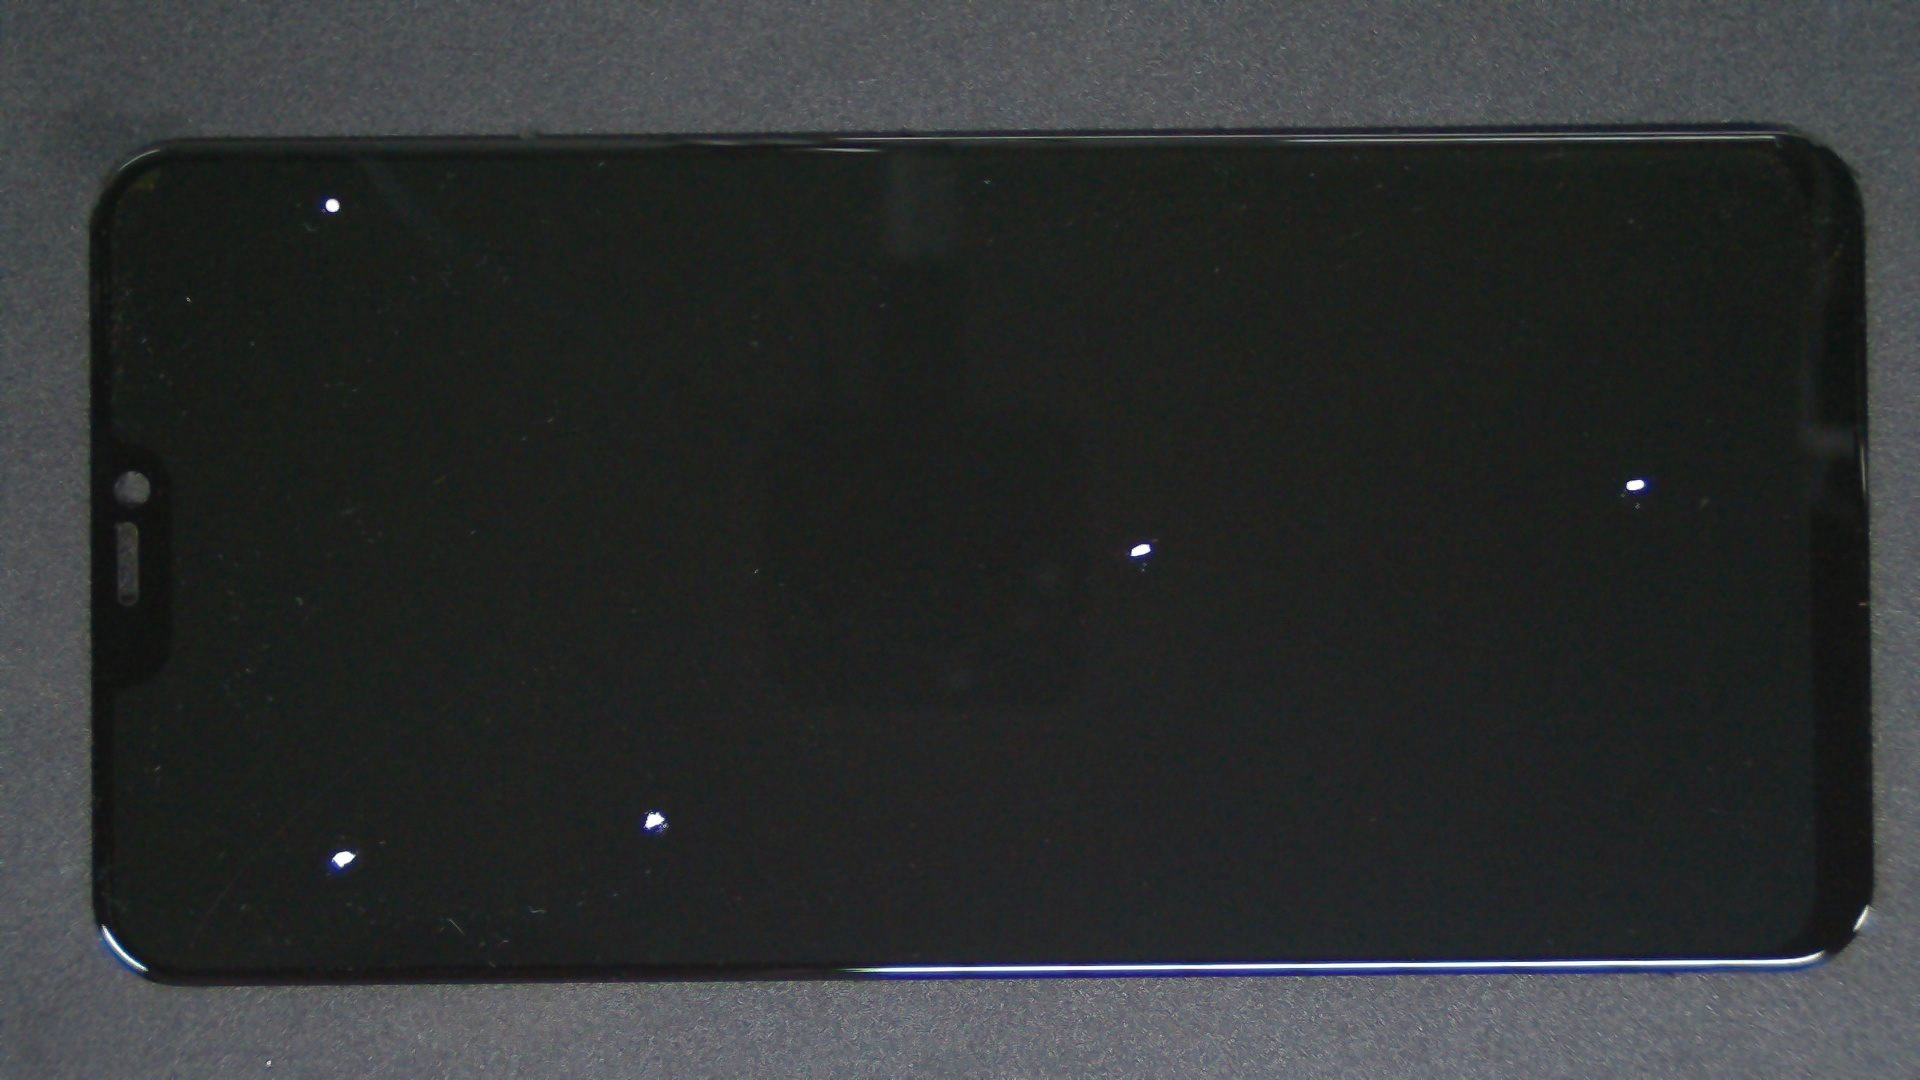oil: (571, 270, 1713, 814), (816, 237, 1920, 719), (330, 405, 988, 1080), (174, 423, 518, 1080), (167, 98, 501, 294)
